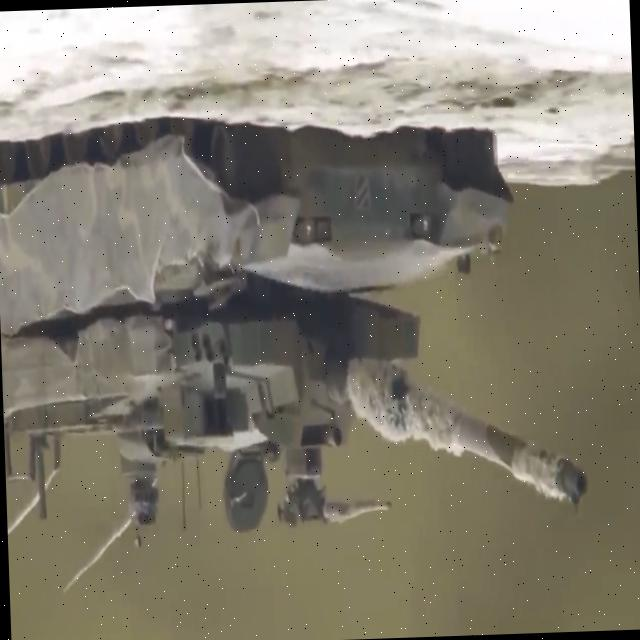korea tank: (0, 102, 591, 554)
